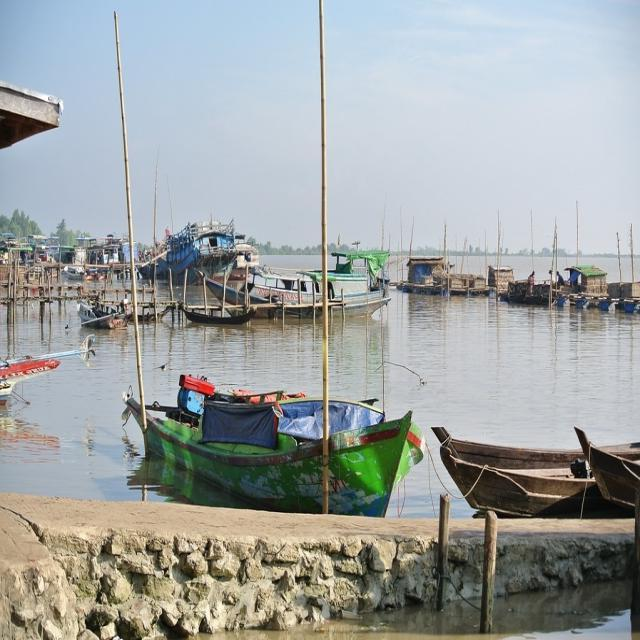boat: (122, 378, 426, 515), (202, 271, 388, 319), (162, 214, 233, 287), (77, 300, 127, 334), (179, 306, 256, 327), (491, 286, 555, 308), (232, 239, 267, 275)
